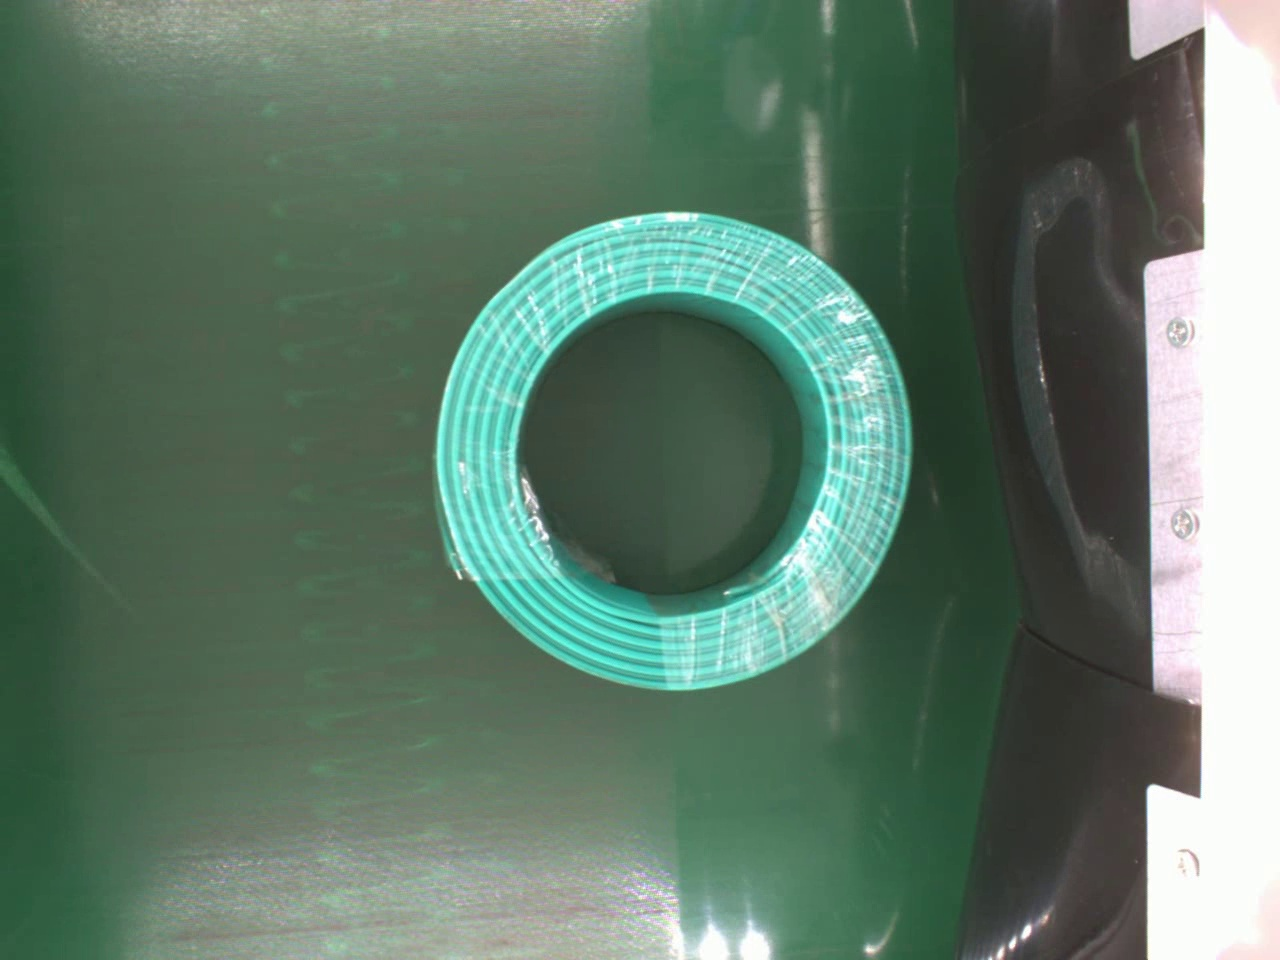green: (431, 202, 922, 696)
